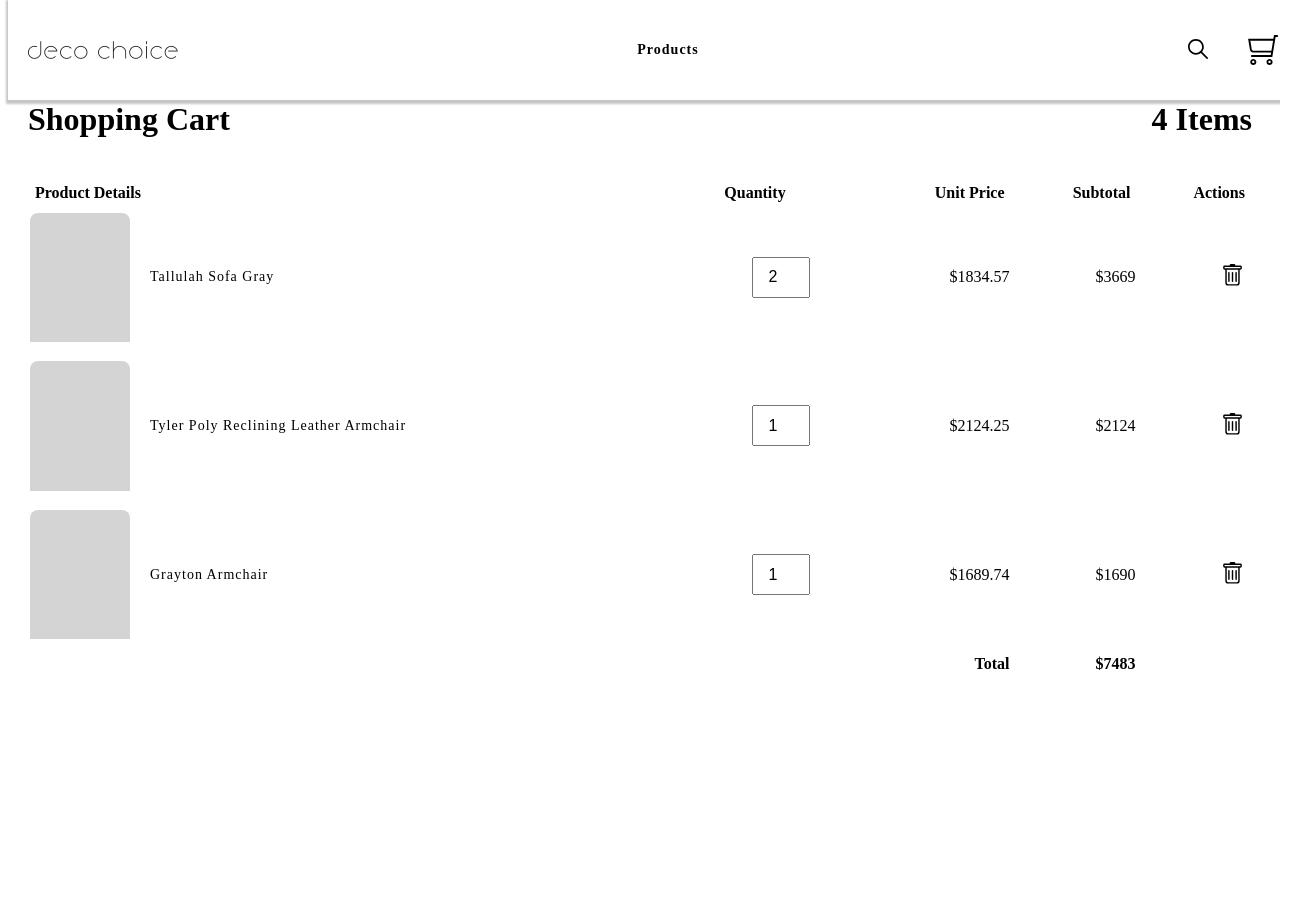
it: Cart › should remove a product from the cart after clicking on the “remove from cart icon”
Check: the cell with test id "cartTotal" reads "$7483", box x1=1012 y1=650 x2=1136 y2=678
Check: the text with test id "cartTitleCount" reads "4 Items", box x1=1152 y1=101 x2=1252 y2=160
Click the button titled "Remove product" in the row of "Tallulah Sofa Gray". click: coordinates (1232, 277)
box: x1=1215 y1=263 x2=1250 y2=291
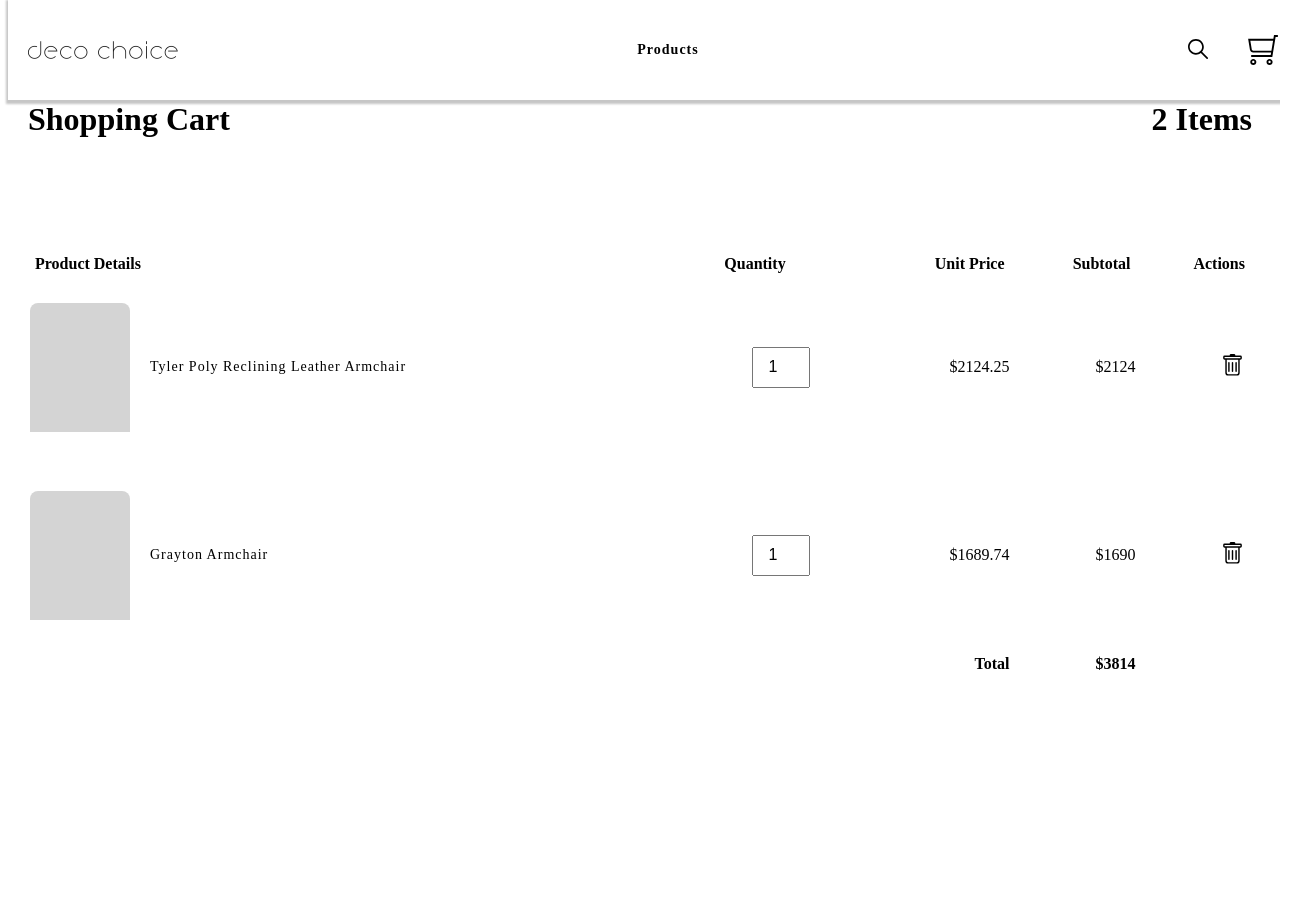
Check: the cell with test id "cartTotal" reads "$3814", box x1=1012 y1=650 x2=1136 y2=678
Check: the text with test id "cartTitleCount" reads "2 Items", box x1=1152 y1=101 x2=1252 y2=137
